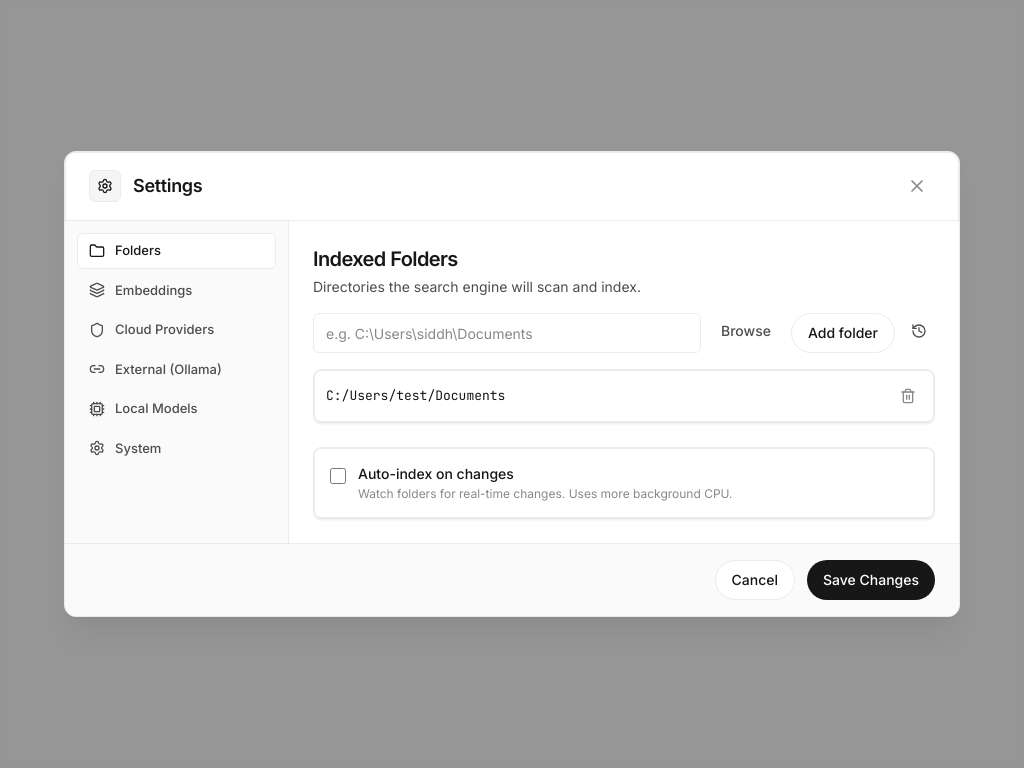
Test: SettingsModal Component › shows API key field only for non-local providers
expect the text "C:/Users/test/Documents" is shown: met, box [326,386,505,406]
Click the button "Embeddings" at (176, 290), box [77,272,276,308]
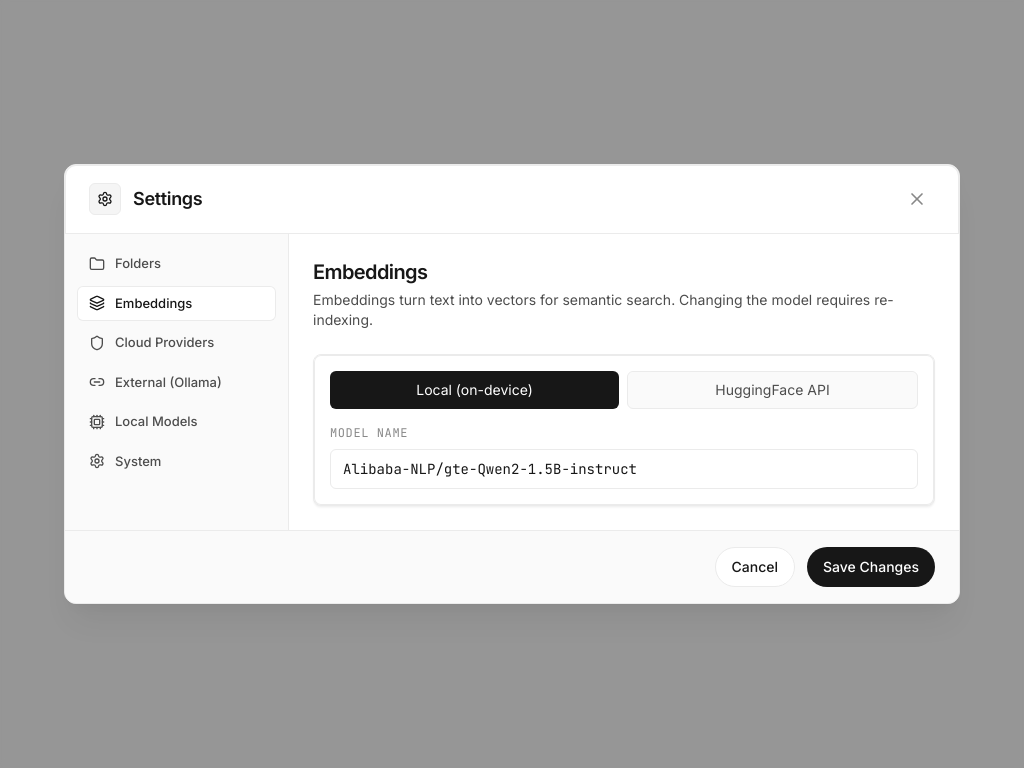
expect the field labelled "API Key" is not shown: met
expect the button "Local (on-device)" is shown: met, box [330,371,619,409]
Note: Switch to huggingface_api → key field appears
Click the button "HuggingFace API" at (772, 390), box [627,371,918,409]
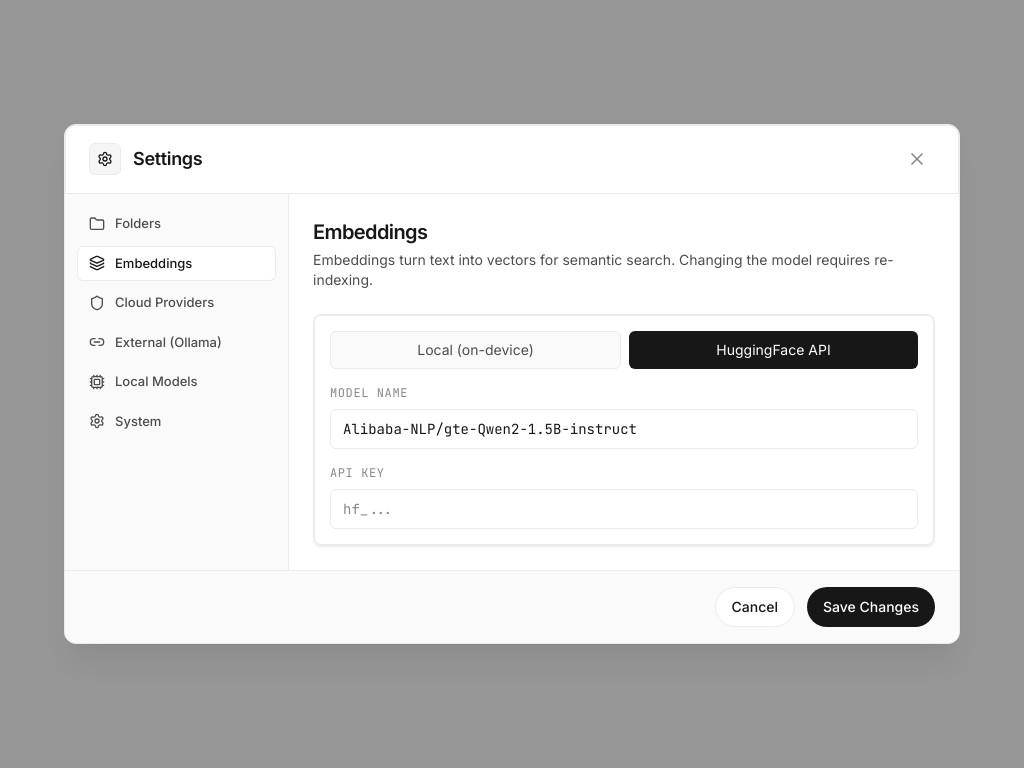
expect the password field labelled "API Key" is shown: met, box [330,489,918,529]
